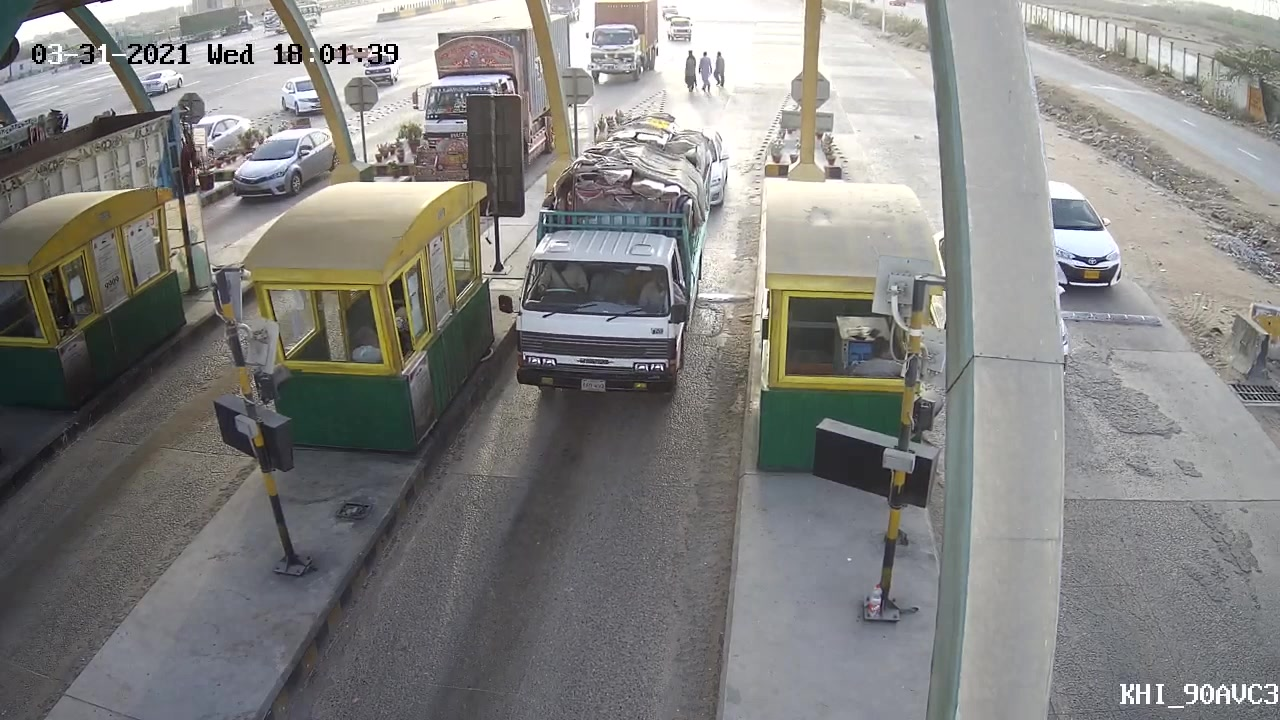F2: (490, 116, 721, 409)
